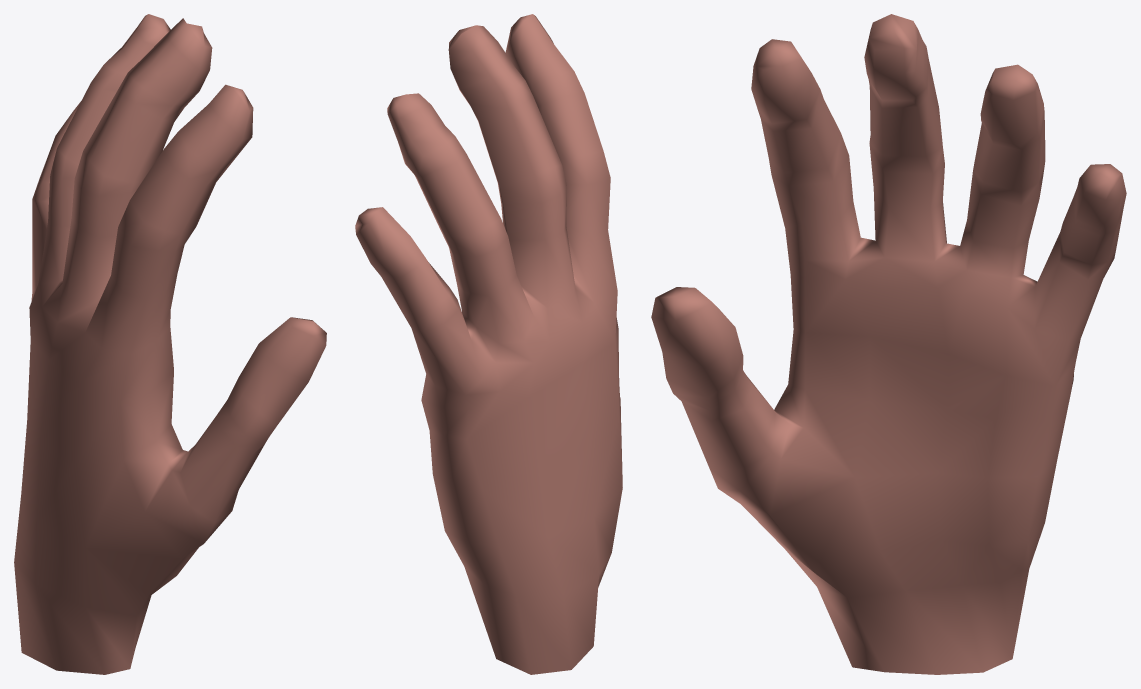
The model's file is curious_girl_hand_l.glb.
The picture shows the model from 3 angles, left to right: view 1: azimuth 30°, elevation 25°; view 2: azimuth 150°, elevation 25°; view 3: azimuth 270°, elevation 25°; orthographic projection. The views are drawn at different scales.
Parts seen in each view (by area): view 1: Wolf3D_Body; view 2: Wolf3D_Body; view 3: Wolf3D_Body.
Part boxes in pixels (box(x1,y1,x2,y2)): Wolf3D_Body: box(14, 14, 326, 674); Wolf3D_Body: box(355, 14, 622, 674); Wolf3D_Body: box(651, 14, 1126, 674).
Size of the model in its own units: 0.0868 by 0.2787 by 0.1714.
1 material, 1 textured.
